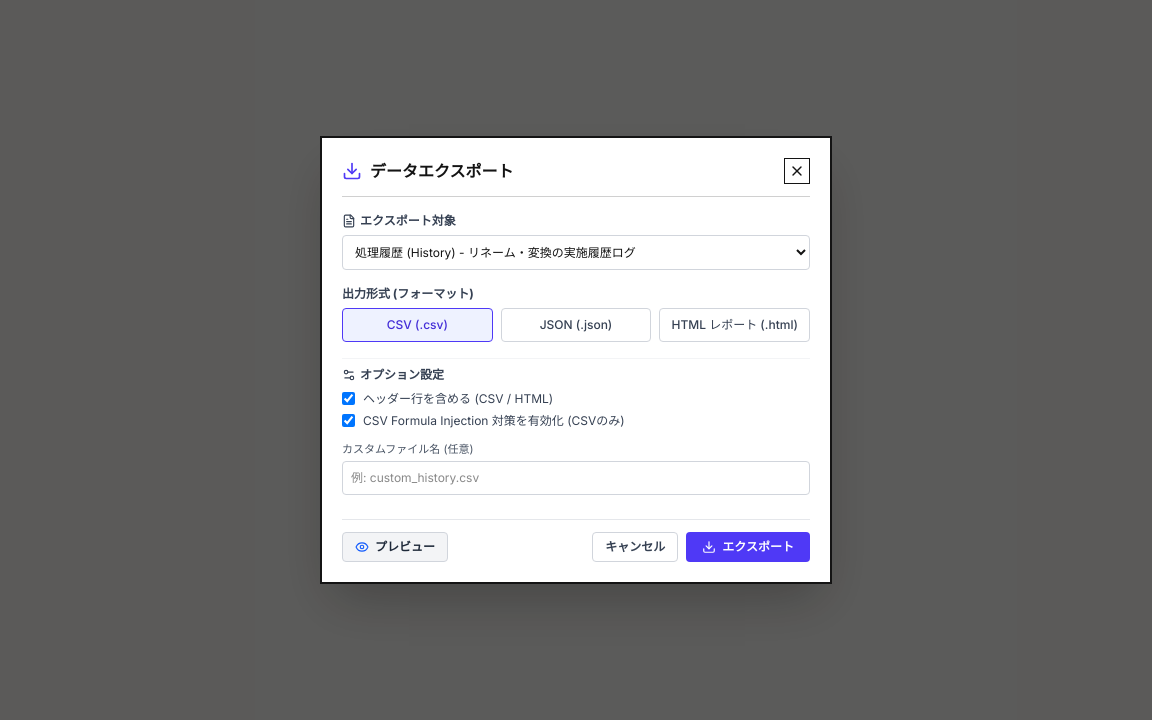
Test: ExportModal › プレビューボタン押下で PreviewDialog が開き、データを正しく受け渡す
Click the button "プレビュー".
click(395, 547)  # box top-left (342, 532), bottom-right (448, 562)
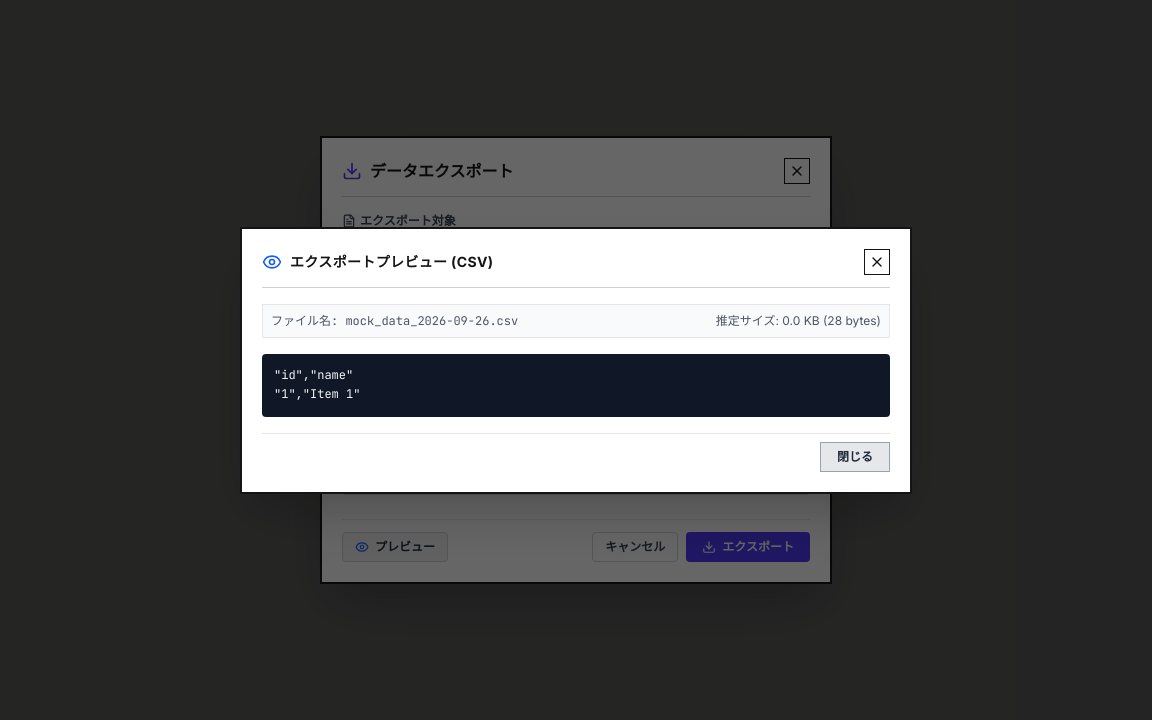
Check: the heading "エクスポートプレビュー (CSV)" is shown, box top-left (290, 252), bottom-right (493, 272)
Check: the text "\"id\",\"name\" \"1\",\"Item 1\"" is shown, box top-left (262, 354), bottom-right (890, 416)
